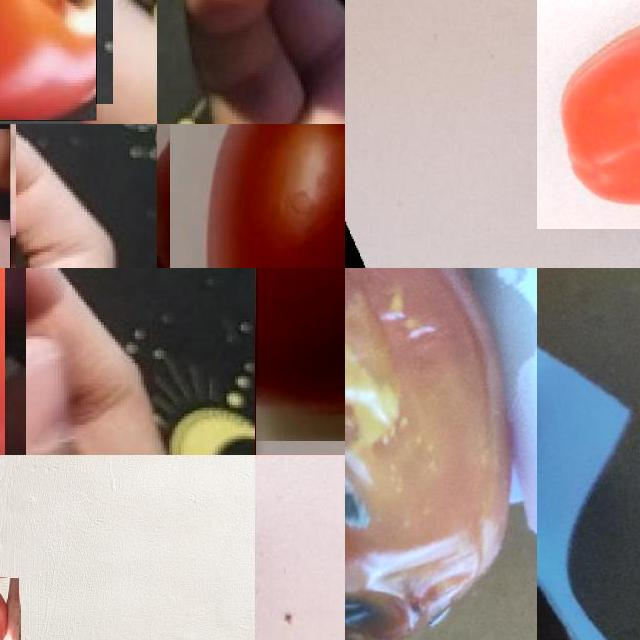0: (157, 124, 345, 268), (255, 268, 345, 455)
Fresh Tomato: (537, 0, 640, 229)
Rotten Tomato: (345, 268, 536, 640)
